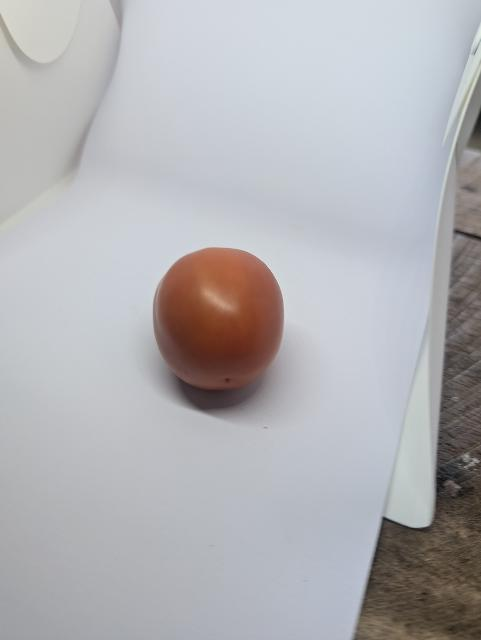red: (144, 240, 292, 404)
